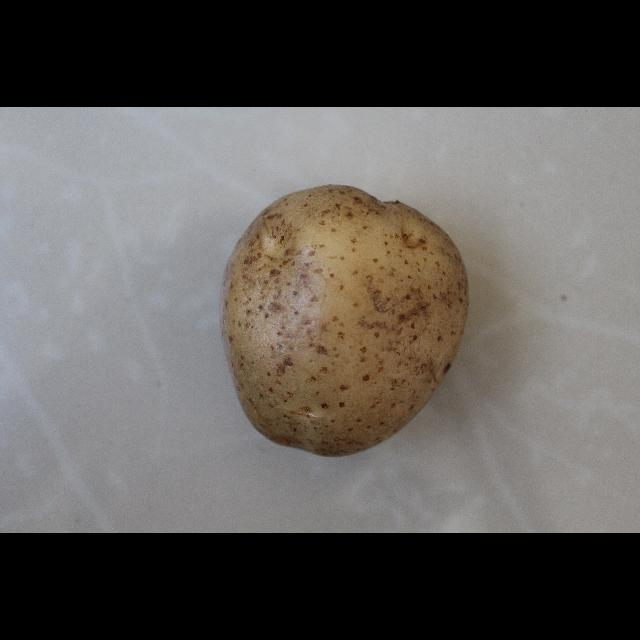Diseased-fungal potato: (207, 180, 468, 460)
